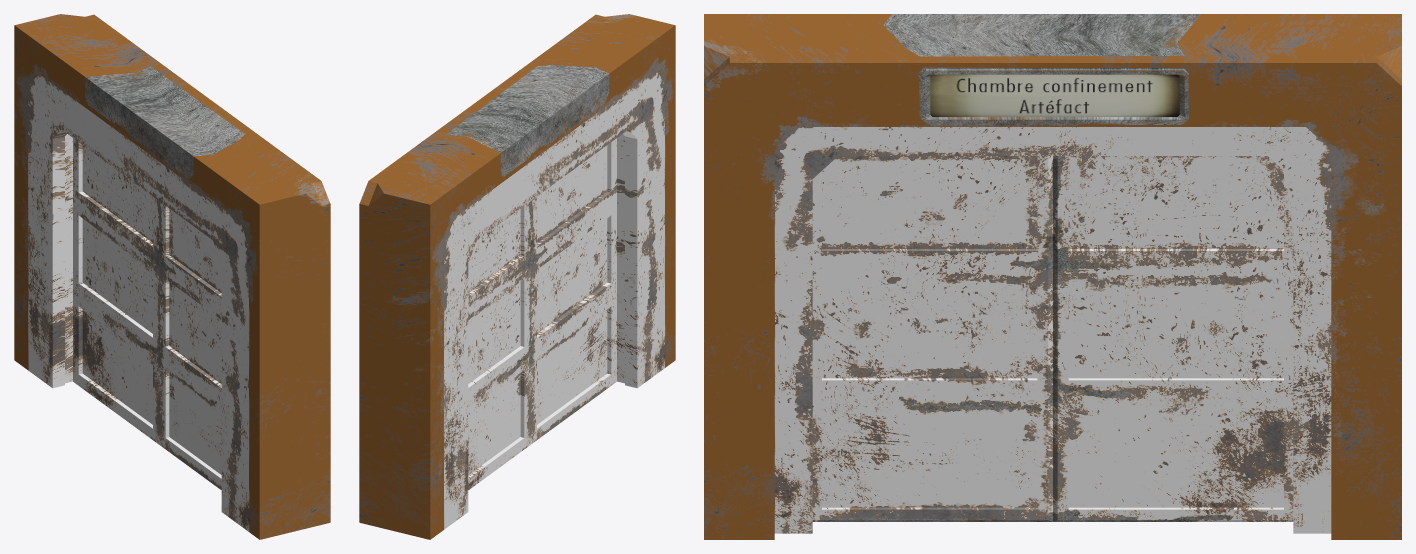
Rendered from Door.fbx.
The picture shows the model from 3 angles, left to right: view 1: azimuth 30°, elevation 25°; view 2: azimuth 150°, elevation 25°; view 3: azimuth 270°, elevation 25°; orthographic projection. The views are drawn at different scales.
Visible parts, largest first — view 1: Sign, DoorR, DoorL; view 2: Sign, DoorL, DoorR; view 3: Sign, DoorL, DoorR.
Boxes of the visible parts, <box> form: Sign: <box>14,14,330,539</box>; DoorR: <box>73,138,159,444</box>; DoorL: <box>159,201,221,489</box>; Sign: <box>359,14,675,539</box>; DoorL: <box>530,138,616,444</box>; DoorR: <box>468,201,530,489</box>; Sign: <box>704,14,1401,539</box>; DoorL: <box>812,156,1052,521</box>; DoorR: <box>1053,156,1293,521</box>.
Bounding box in the file's own units: 239 × 1039 × 1378.
